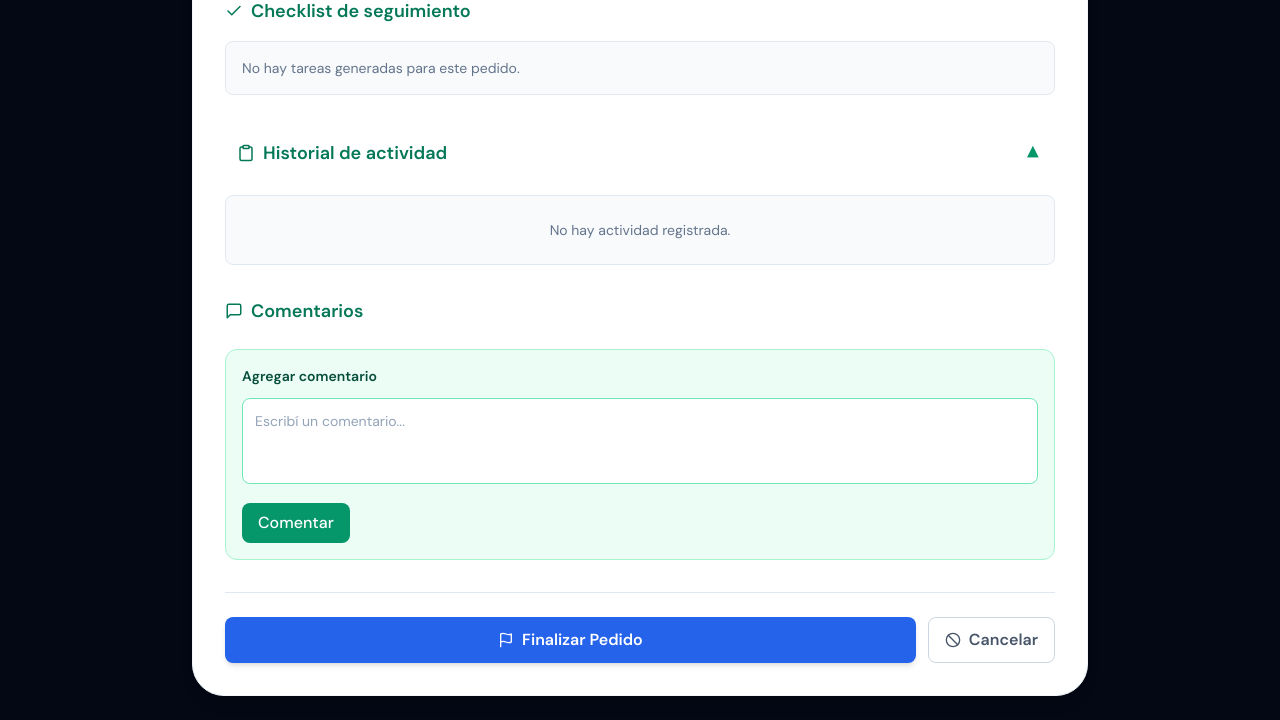
PedidoDetalle — finalización con consumos[] › bloquea la finalización si no se puede cargar la reserva
(page scrolled)
Click the button "Finalizar Pedido".
click(570, 640)  # box left=225, top=617, right=916, bottom=663
(page scrolled)
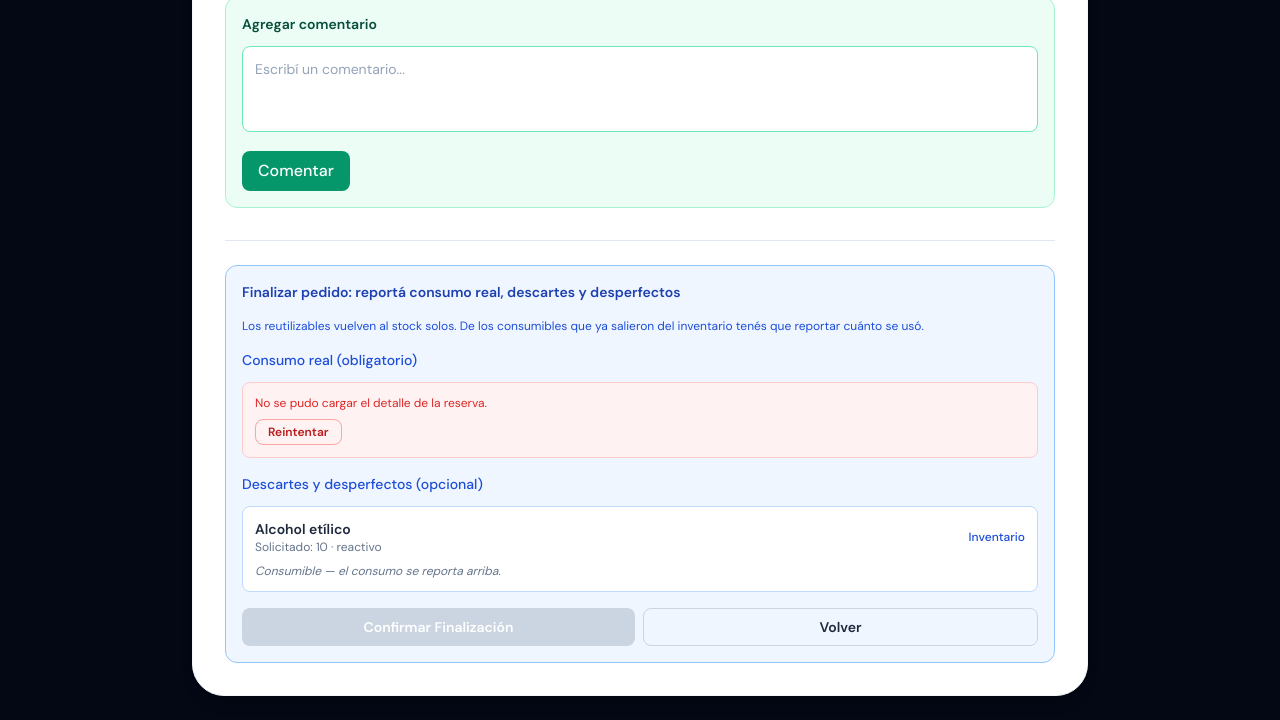
Result: the text "No se pudo cargar el detalle de la reserva." is shown at left=255, top=395, right=487, bottom=411
Result: the button "Confirmar Finalización" is disabled at left=242, top=608, right=635, bottom=646
